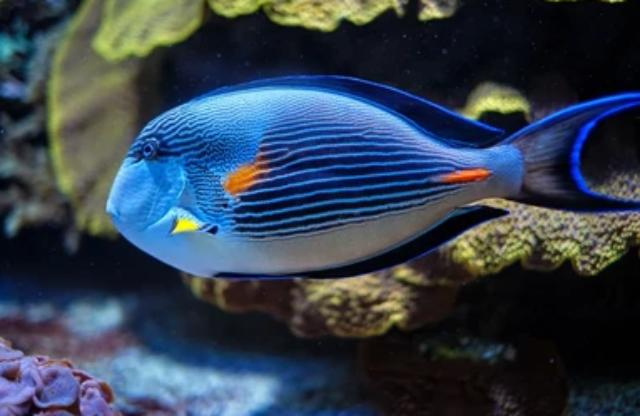Mulut: (85, 184, 141, 238)
Sirip Anal: (301, 192, 515, 294)
Sirip Ekor: (508, 80, 640, 235)
Sirip Perut: (203, 267, 305, 301)
Sirip Punggung: (208, 68, 508, 148)
